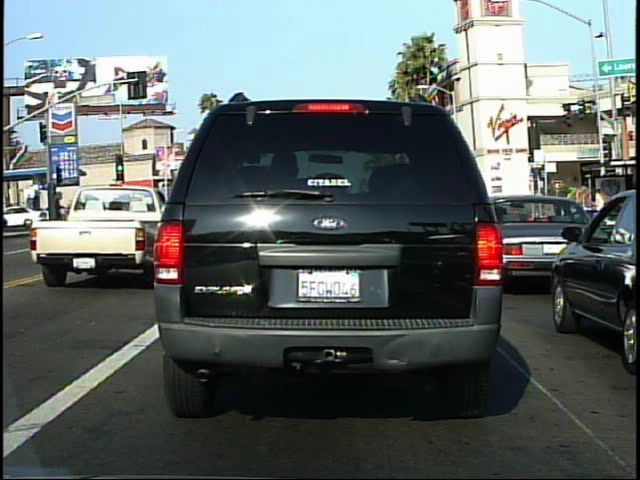person: (589, 184, 611, 243)
